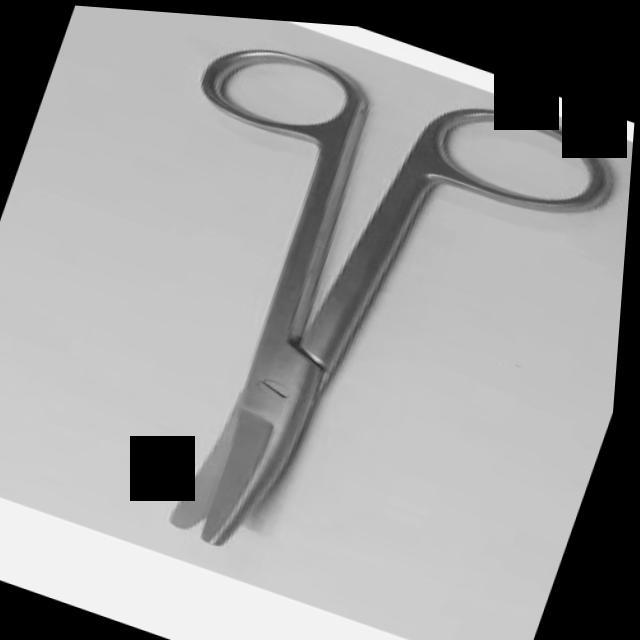Curved Mayo: (44, 4, 640, 634)
